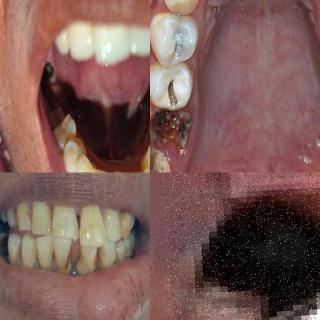calculus: (74, 253, 95, 279), (58, 254, 72, 277)
cavities: (199, 172, 320, 320), (158, 72, 190, 109)
stains: (40, 202, 56, 234), (23, 242, 40, 272), (55, 243, 71, 274), (79, 246, 99, 270), (7, 240, 20, 270), (97, 245, 111, 271), (117, 210, 130, 237), (45, 243, 55, 271), (23, 205, 35, 227), (114, 245, 127, 264), (0, 232, 10, 246)
